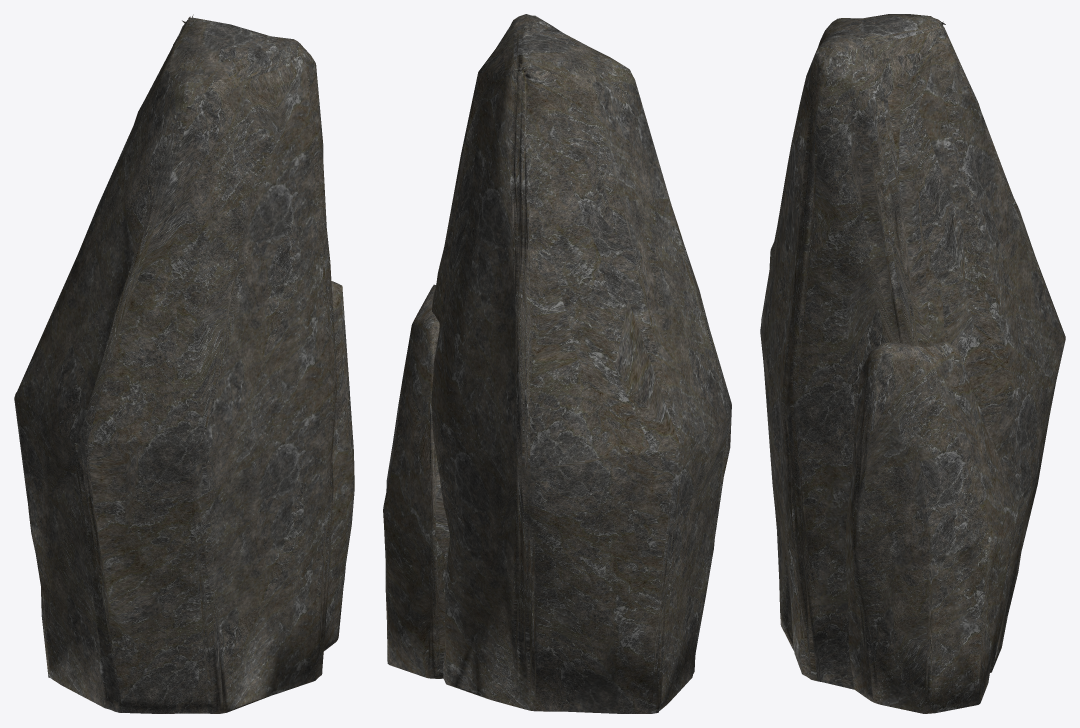
The model's file is upright_crag_LOD0.fbx.
The picture shows the model from 3 angles, left to right: view 1: azimuth 30°, elevation 25°; view 2: azimuth 150°, elevation 25°; view 3: azimuth 270°, elevation 25°; orthographic projection. The views are drawn at different scales.
Parts seen in each view (by area): view 1: upright_crag_LOD0; view 2: upright_crag_LOD0; view 3: upright_crag_LOD0.
Part boxes in pixels (<box>): upright_crag_LOD0: <box>14,14,354,713</box>; upright_crag_LOD0: <box>383,14,731,713</box>; upright_crag_LOD0: <box>760,14,1065,713</box>.
Bounding box in the file's own units: 260 × 500 × 220.
